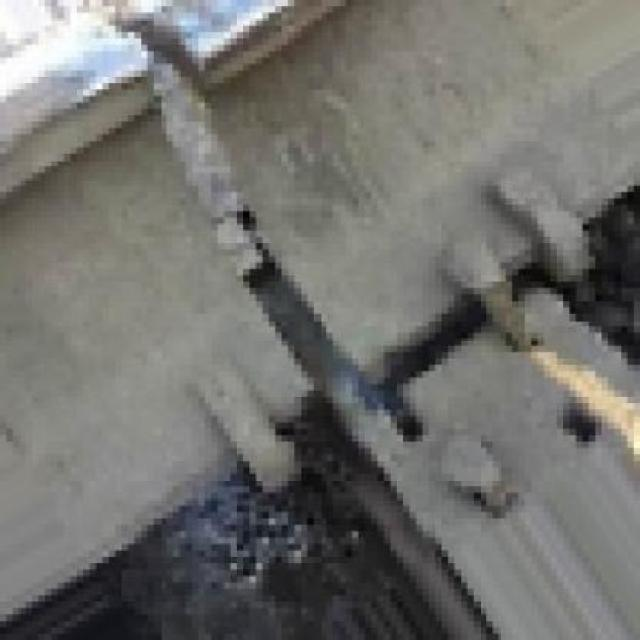defective: (0, 0, 418, 632)
